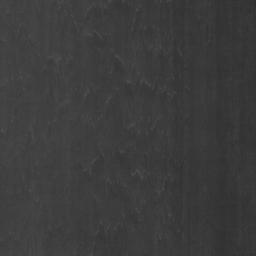Silk spot: (0, 0, 198, 256), (197, 0, 256, 96), (210, 96, 252, 209), (206, 220, 236, 256)
